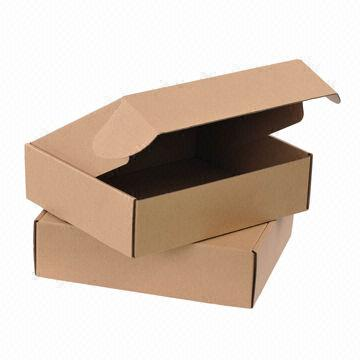Rec_Paper: (14, 39, 335, 316), (22, 49, 324, 254)
